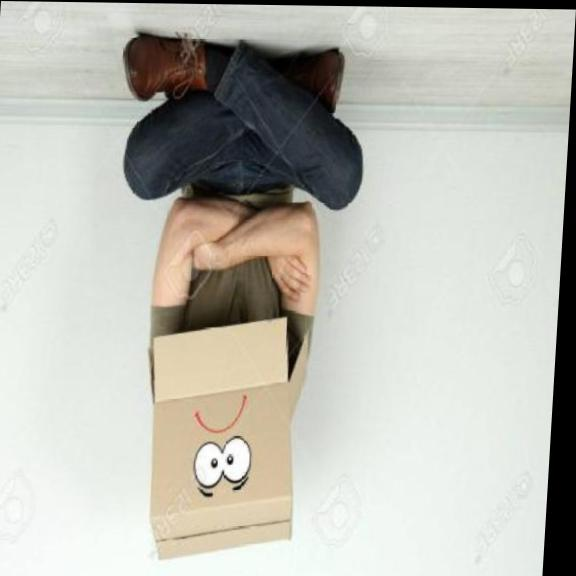Kertas: (147, 310, 314, 558)
